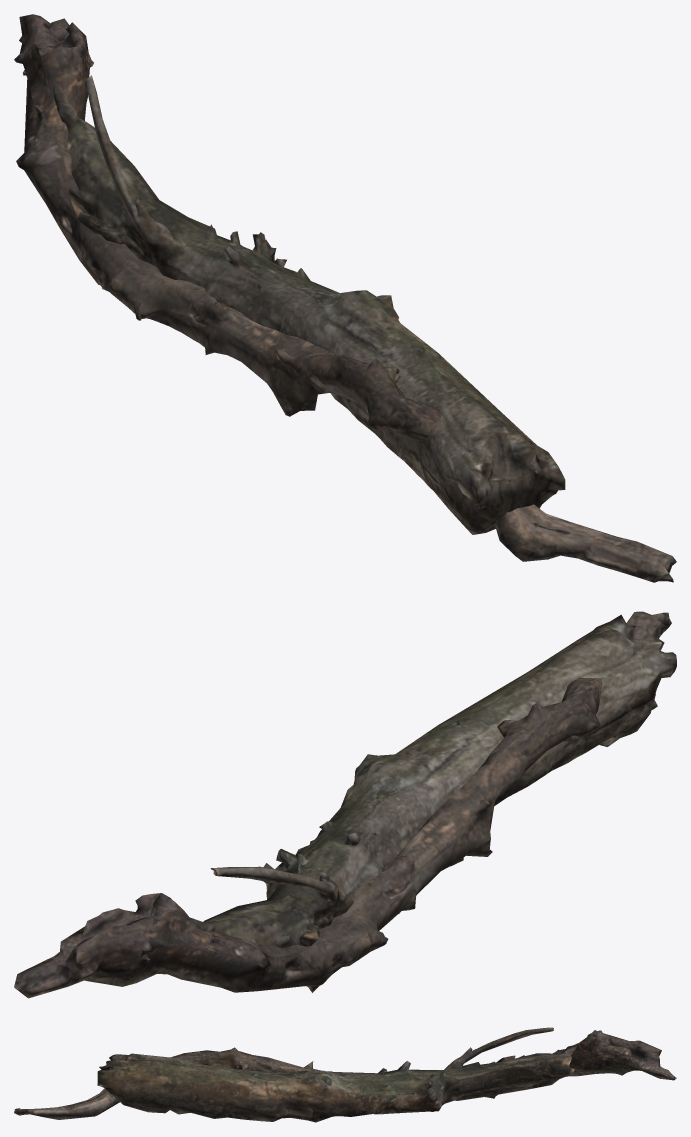
File: branches.gltf
The picture shows the model from 3 angles, top to bottom: view 1: azimuth 30°, elevation 25°; view 2: azimuth 150°, elevation 25°; view 3: azimuth 270°, elevation 25°; orthographic projection. The views are drawn at different scales.
Parts seen in each view (by area): view 1: branch_c, branch_b; view 2: branch_c, branch_b; view 3: branch_c, branch_b.
Boxes of the visible parts, bbox=[...] form: branch_c: bbox=[52, 75, 565, 534]; branch_b: bbox=[14, 14, 676, 582]; branch_c: bbox=[190, 614, 676, 948]; branch_b: bbox=[14, 611, 671, 998]; branch_c: bbox=[97, 1027, 578, 1122]; branch_b: bbox=[14, 1030, 676, 1119].
Bounding box in the file's own units: 0.1512 × 0.1433 × 1.04.
1 material, 1 textured.
